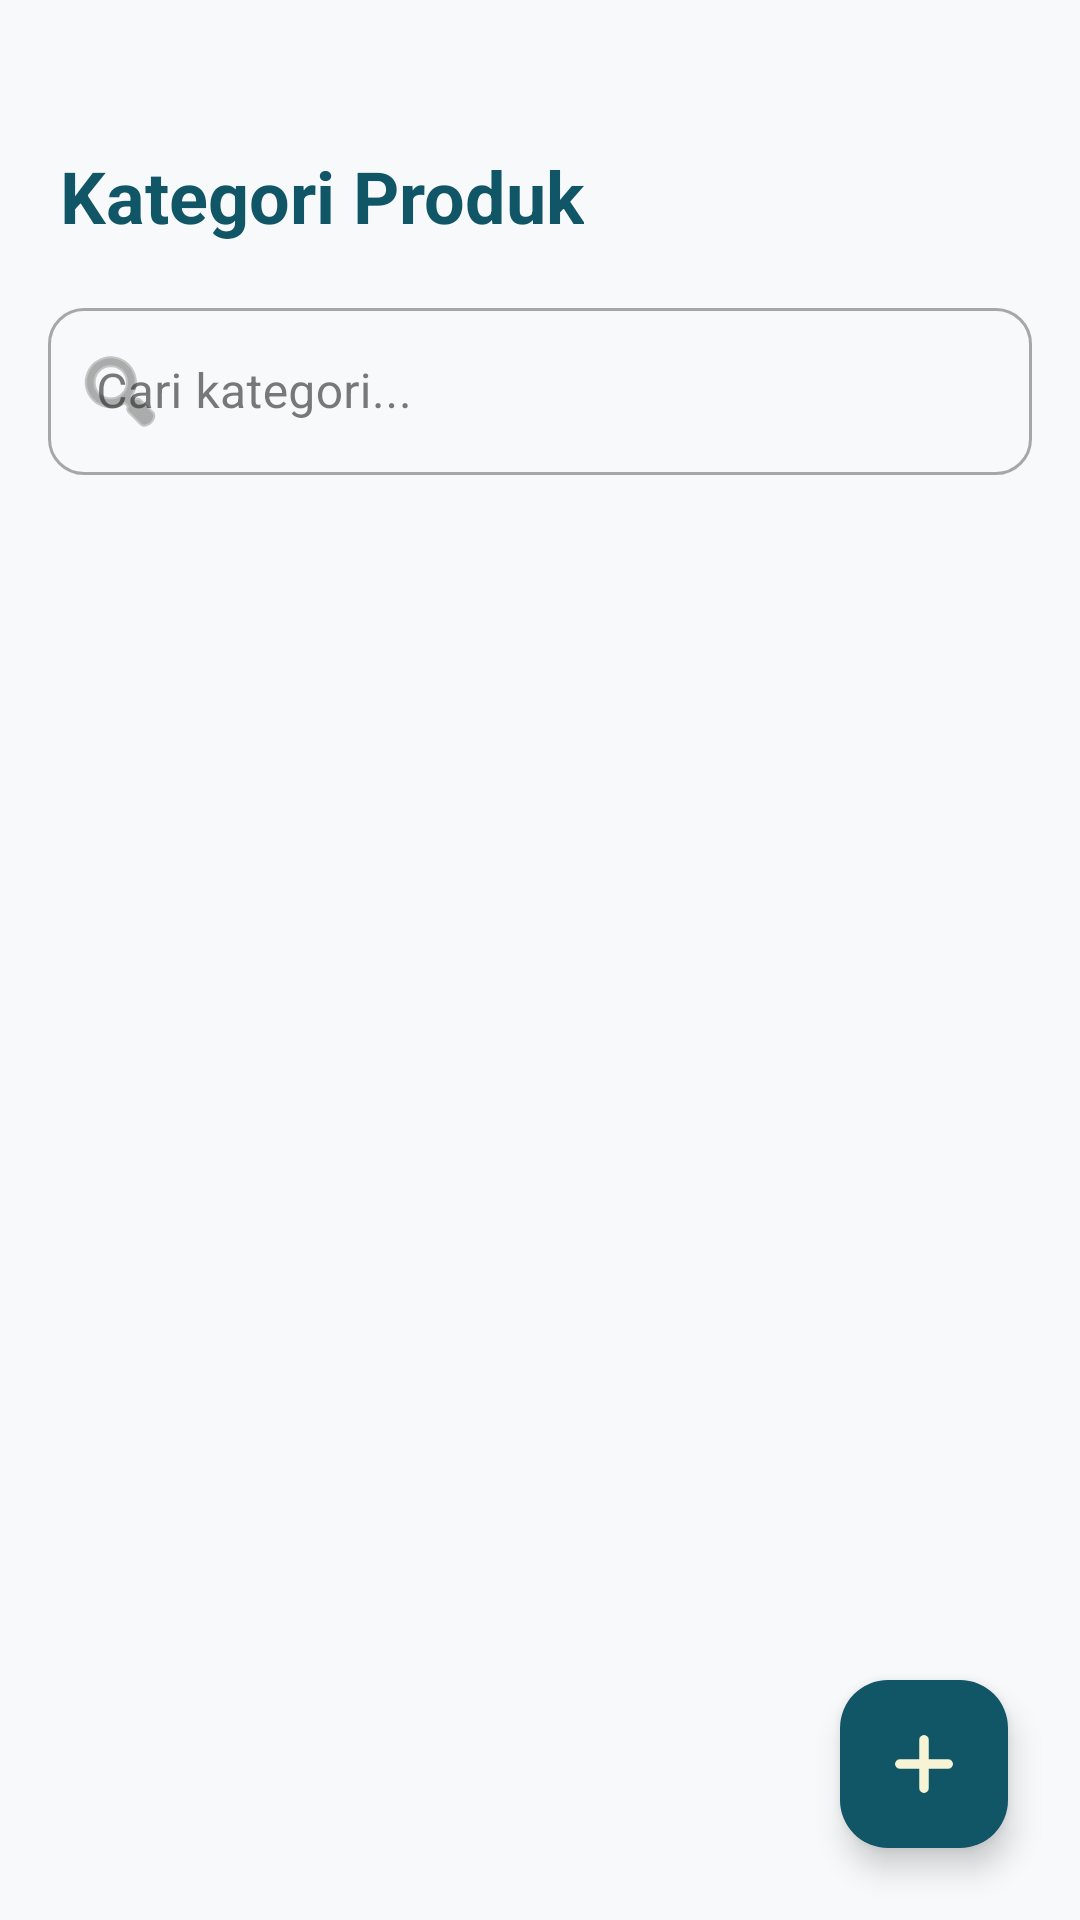

Icons on this 1080px×1920px Android screen, each with the point to tap as point (x, y):
Tambah Kategori: point (924, 1764)
